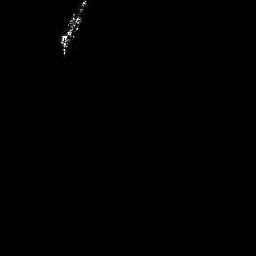ship: (57, 1, 91, 60)
